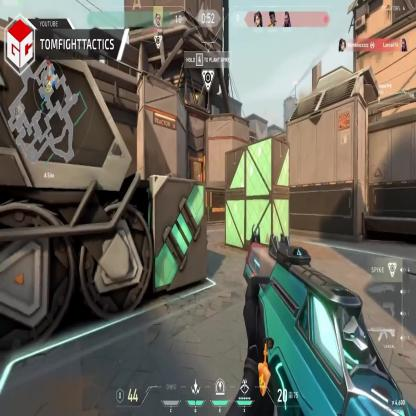enemy: (196, 172, 199, 184)
enemy_head: (198, 172, 198, 176)
